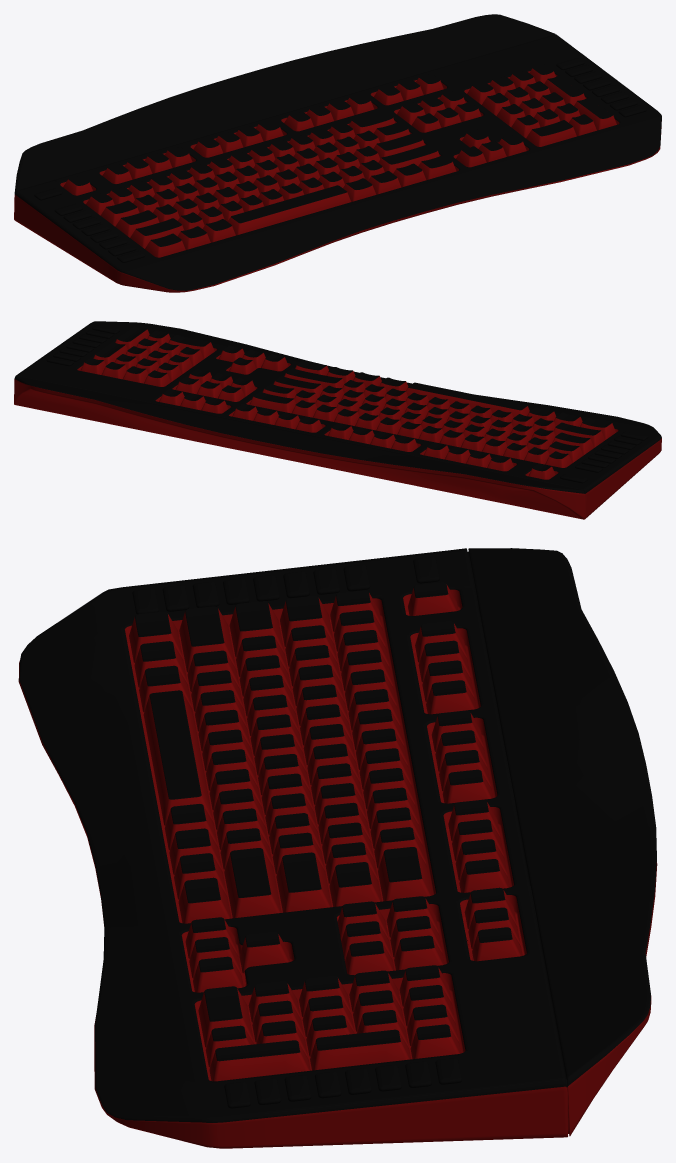
File: gaming_keyboard.glb
The picture shows the model from 3 angles, top to bottom: view 1: azimuth 30°, elevation 25°; view 2: azimuth 150°, elevation 25°; view 3: azimuth 270°, elevation 25°; orthographic projection. The views are drawn at different scales.
Visible parts, largest first — view 1: gaming_keyboard; view 2: gaming_keyboard; view 3: gaming_keyboard.
Part boxes in pixels (box(x1,y1,x2,y2)): gaming_keyboard: box(14, 14, 661, 292); gaming_keyboard: box(14, 321, 661, 519); gaming_keyboard: box(18, 548, 657, 1148).
Size of the model in its own units: 0.5092 by 0.0378 by 0.2523.
